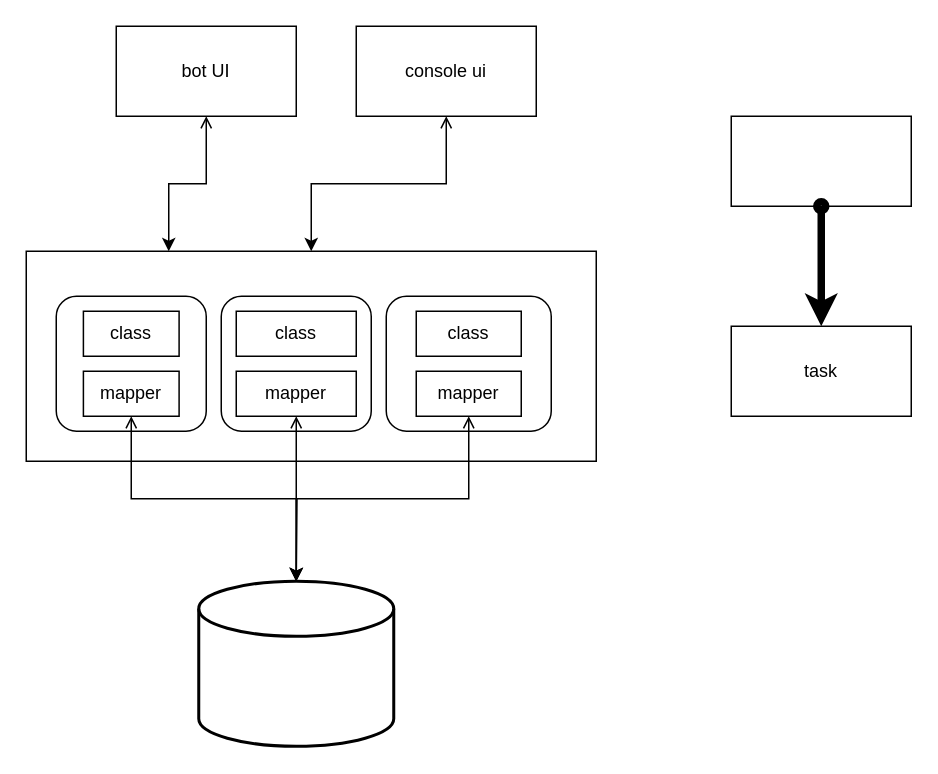
The diagram is 938 pixels wide and 774 high, and some of its shapes have lost their labels. Each missing label, with the box of its shape:
DB: (196, 579, 394, 747)
user: (730, 115, 911, 206)
